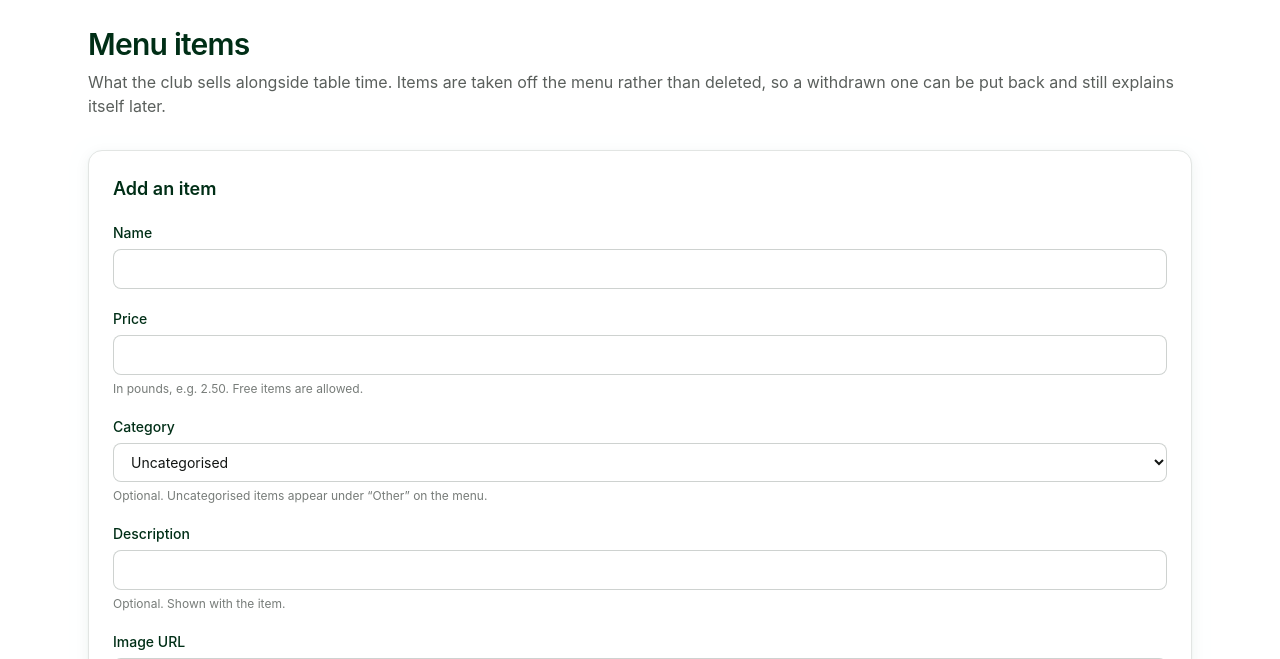
Test: AdminCafePage › refuses an empty price rather than saving the item as free
Type "Priceless" into the field labelled "Name". click: point(640, 269)
box: [113,249,1167,289]
(page scrolled)
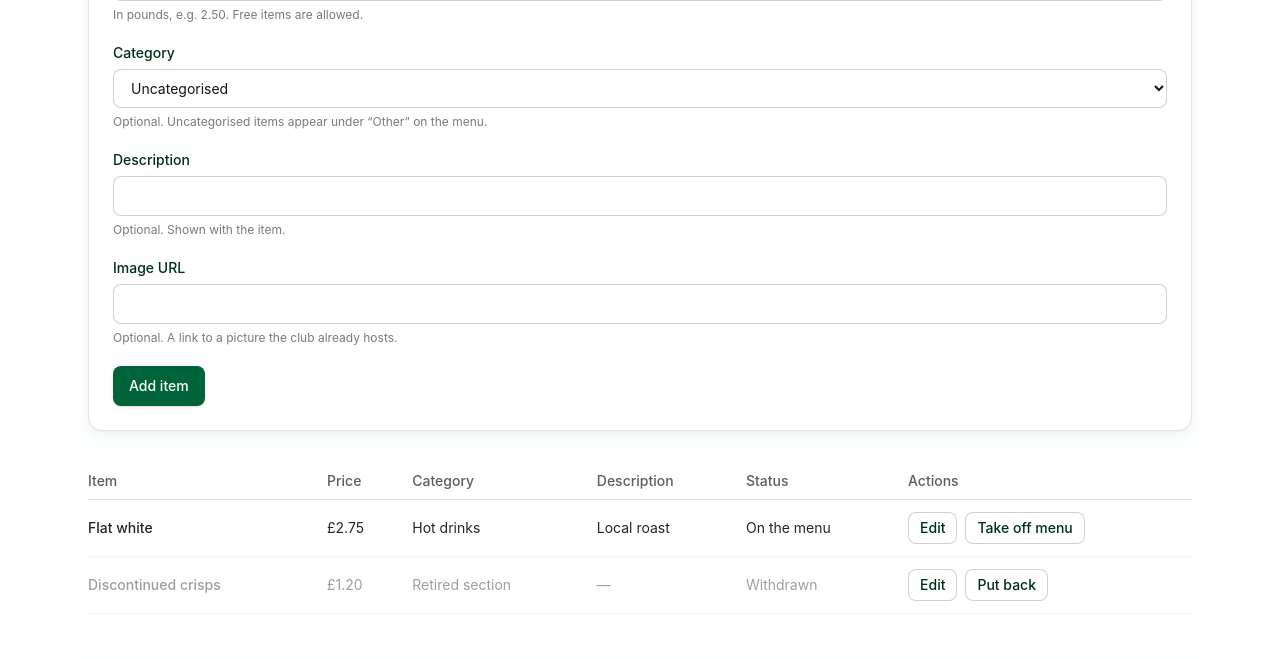
Click the button "Add item". click: point(159, 386)
box: [113,366,205,406]
(page scrolled)
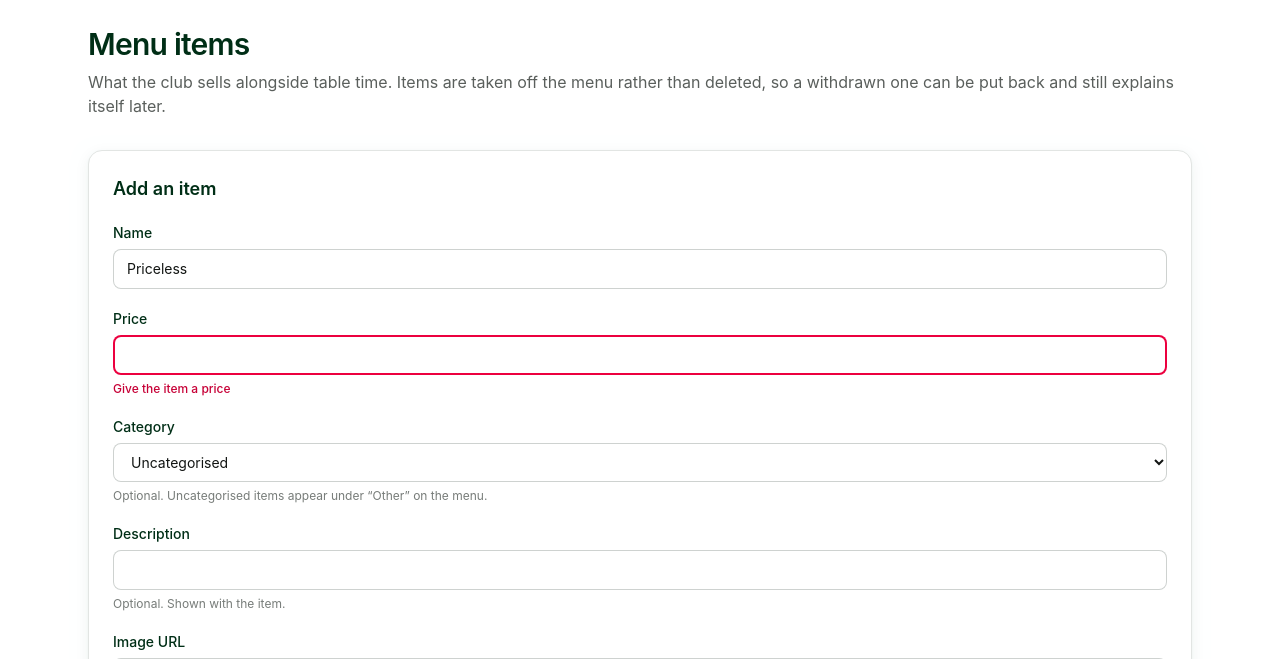
Expected: the text "Give the item a price" is shown, [113,381,230,396]
